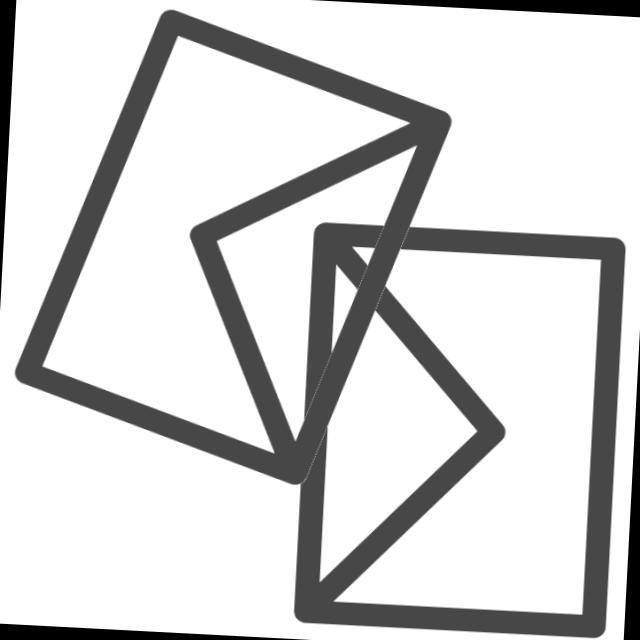letter: (2, 1, 467, 496), (277, 203, 637, 640)
